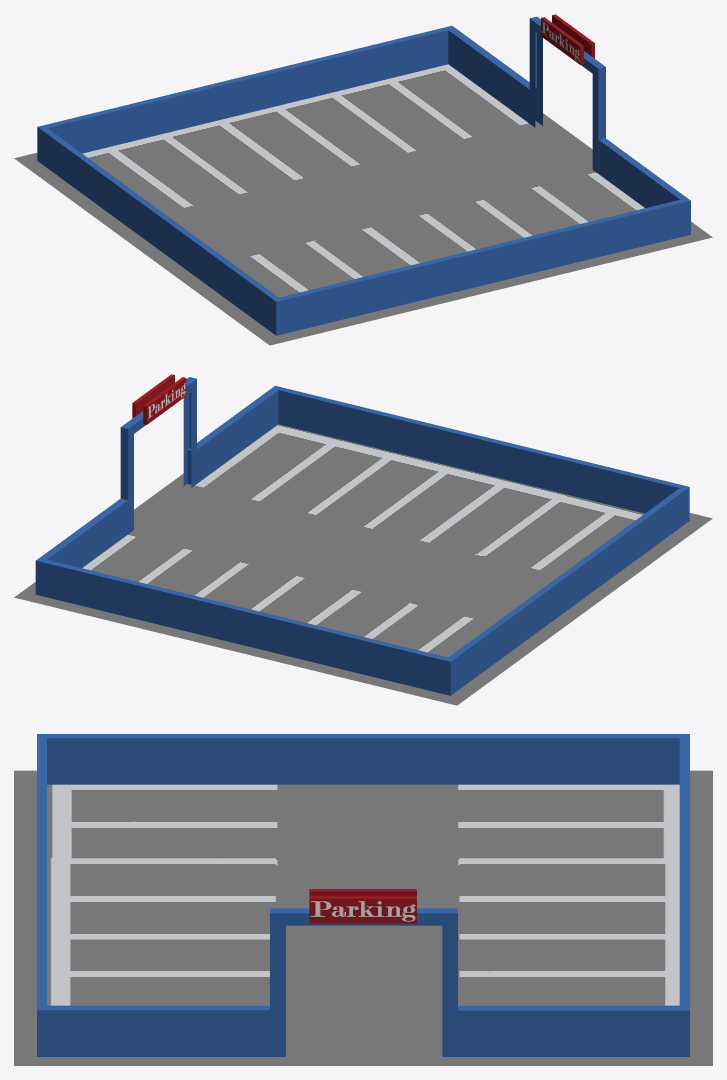
File: parking.glb
3 renders of one model, top to bottom at view 1: azimuth 30°, elevation 25°; view 2: azimuth 150°, elevation 25°; view 3: azimuth 270°, elevation 25°, orthographic. The views are drawn at different scales.
Visible parts, largest first — view 1: Cercle; view 2: Cercle; view 3: Cercle.
Boxes of the visible parts, left/top/right/bottom form: Cercle: left=14, top=14, right=712, bottom=345; Cercle: left=14, top=374, right=712, bottom=705; Cercle: left=14, top=734, right=712, bottom=1065.
Size of the model in its own units: 15 by 3.8 by 15.
Materials: 1 (1 with a texture image).
